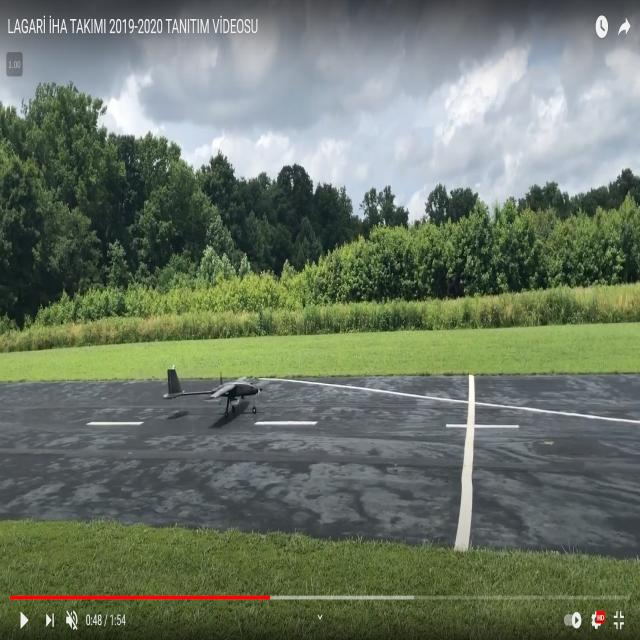iha: (193, 361, 231, 414)
